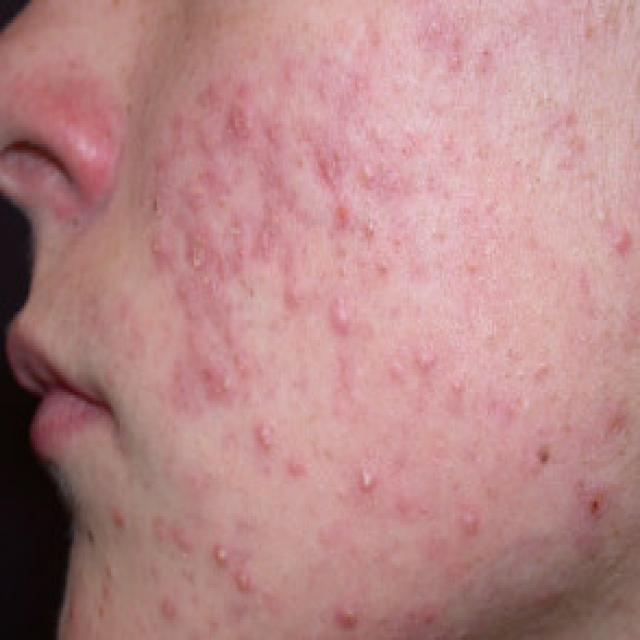Acne: (494, 150, 632, 330), (138, 207, 313, 322), (400, 128, 495, 306), (279, 352, 445, 452), (262, 34, 413, 134), (405, 487, 498, 640), (88, 277, 180, 423), (477, 320, 562, 472), (135, 85, 224, 197), (75, 513, 151, 634), (326, 132, 388, 252), (436, 450, 499, 551), (421, 22, 501, 101), (540, 82, 600, 184), (183, 339, 266, 404), (149, 500, 213, 581), (586, 376, 640, 455), (218, 528, 266, 612), (219, 99, 282, 162), (313, 588, 388, 640), (584, 204, 635, 272), (570, 463, 616, 538), (405, 313, 448, 382), (316, 279, 364, 338), (232, 418, 286, 460), (341, 456, 388, 504), (272, 457, 319, 498), (443, 375, 481, 423)
